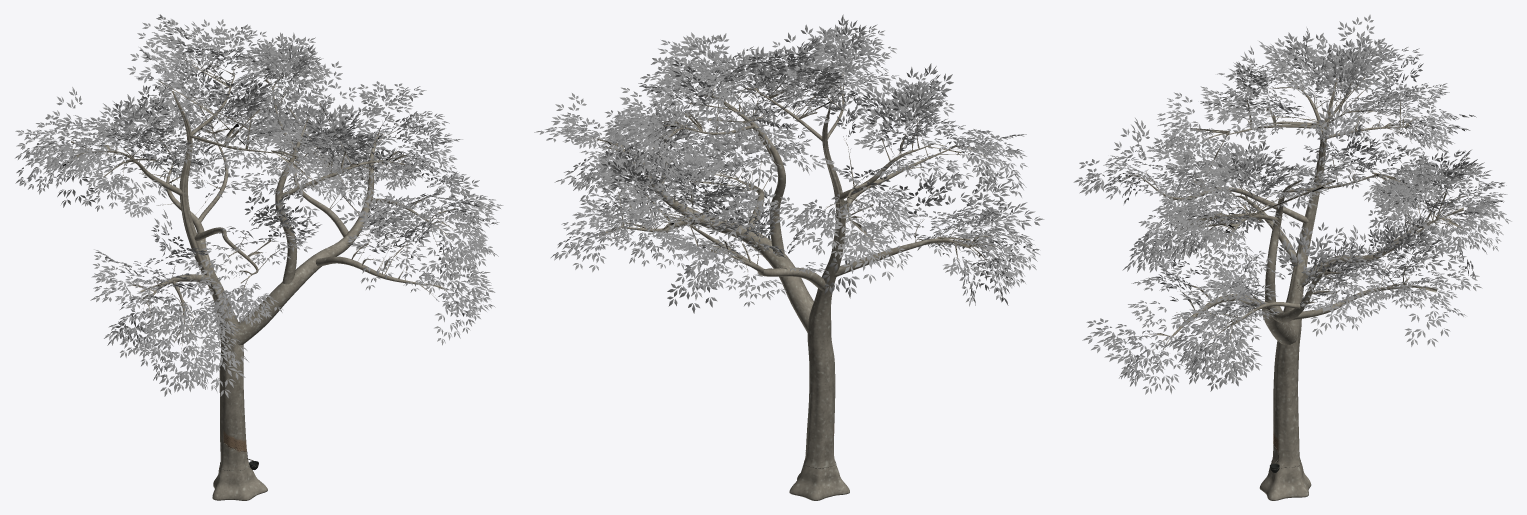
The model's file is RT_Mature_B_LOD1.glb.
3 renders of one model, left to right at view 1: azimuth 30°, elevation 25°; view 2: azimuth 150°, elevation 25°; view 3: azimuth 270°, elevation 25°, orthographic. The views are drawn at different scales.
Visible parts, largest first — view 1: RT_Mature_B_LOD1_Foliage, RT_Mature_B_LOD1_Body; view 2: RT_Mature_B_LOD1_Foliage, RT_Mature_B_LOD1_Body; view 3: RT_Mature_B_LOD1_Foliage, RT_Mature_B_LOD1_Body.
Boxes of the visible parts, x1,y1,x2,y2 form: RT_Mature_B_LOD1_Foliage: (15,14,503,397); RT_Mature_B_LOD1_Body: (54,57,455,500); RT_Mature_B_LOD1_Foliage: (534,14,1044,313); RT_Mature_B_LOD1_Body: (592,61,998,500); RT_Mature_B_LOD1_Foliage: (1073,14,1511,394); RT_Mature_B_LOD1_Body: (1122,67,1469,500).
Size of the model in its own units: 12.73 by 13.64 by 11.9.
2 materials, 1 textured.
